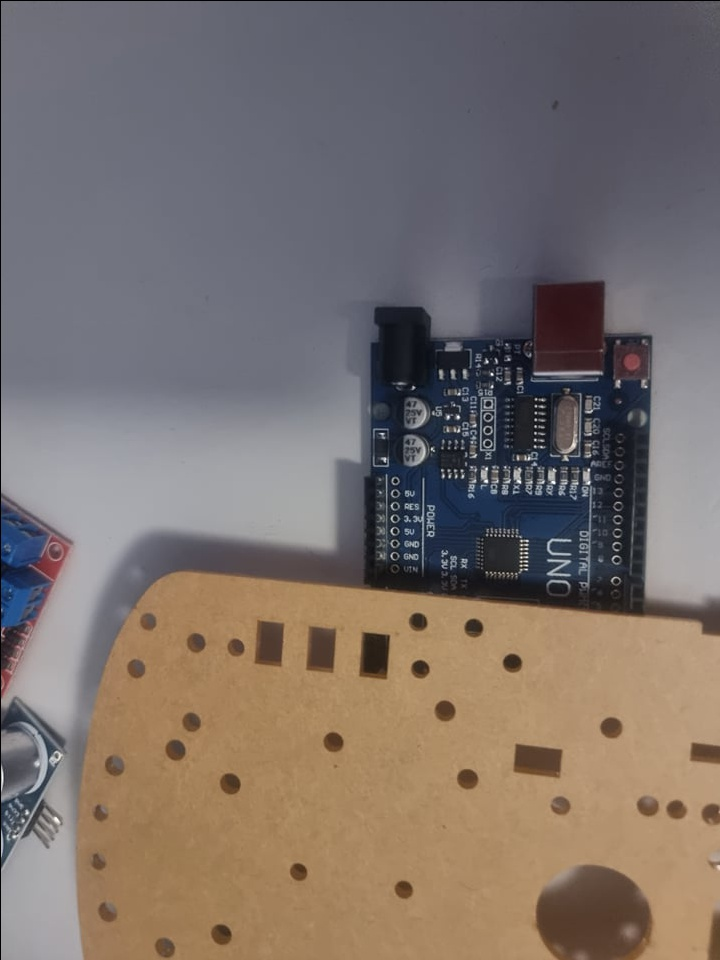UNO R3: (338, 271, 653, 606)
